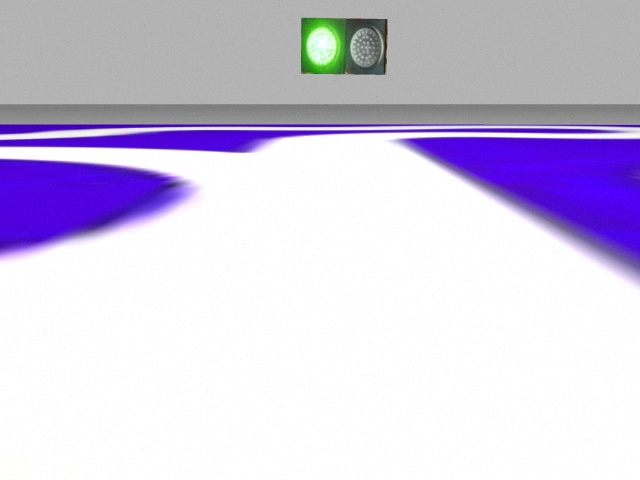green: (301, 18, 346, 74)
